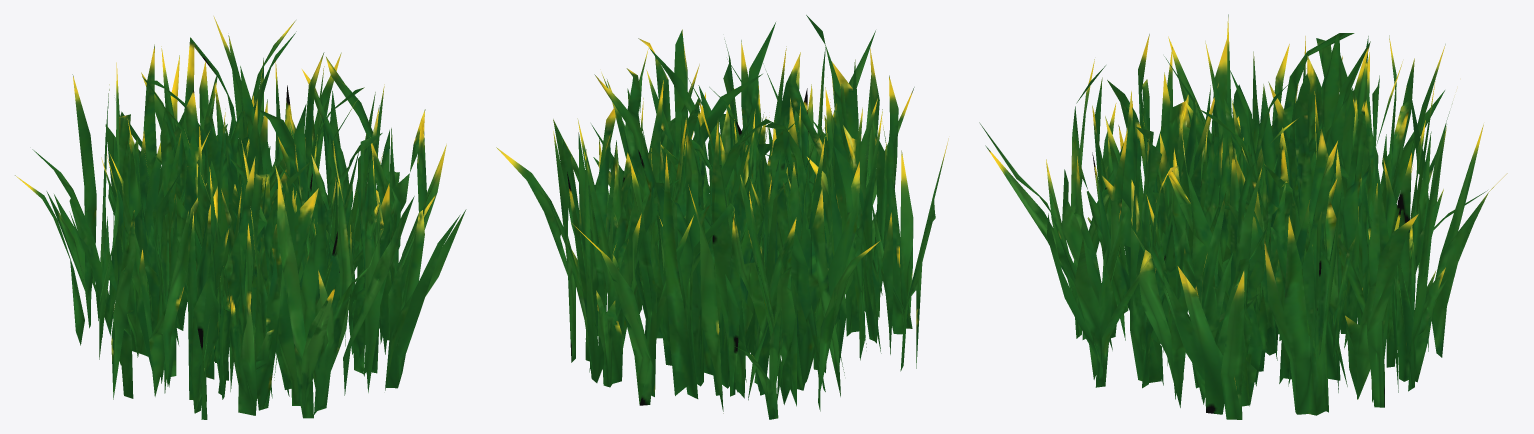
Rendered from grass_tuft_cemetery.glb.
The picture shows the model from 3 angles, left to right: view 1: azimuth 30°, elevation 25°; view 2: azimuth 150°, elevation 25°; view 3: azimuth 270°, elevation 25°; orthographic projection. The views are drawn at different scales.
Visible parts, largest first — view 1: Mesh1.0; view 2: Mesh1.0; view 3: Mesh1.0.
Boxes of the visible parts, box(x1,y1,x2,y2) form: Mesh1.0: box(15, 16, 466, 419); Mesh1.0: box(496, 15, 948, 419); Mesh1.0: box(979, 14, 1507, 419).
Bounding box in the file's own units: 1.67 × 1.23 × 1.91.
1 material, 1 textured.
